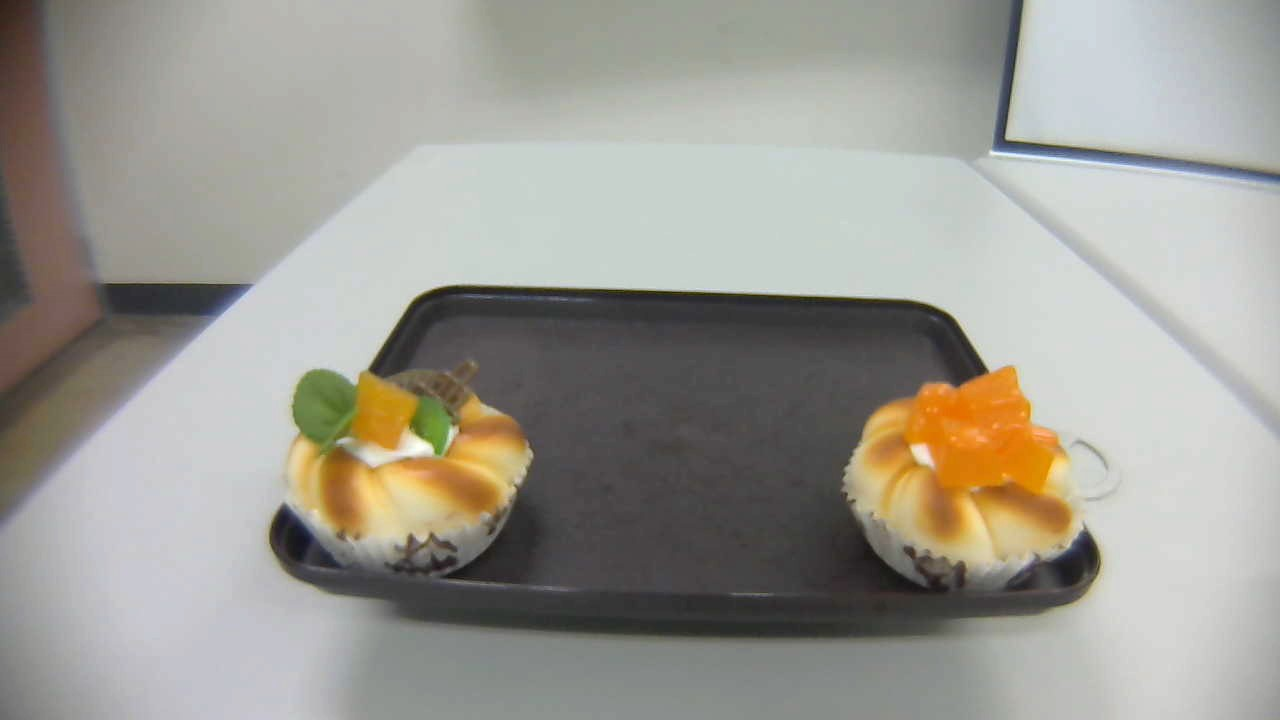fruit tart: (280, 358, 536, 580)
mango tart: (844, 366, 1088, 595)
